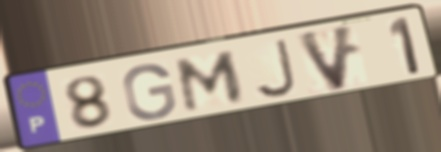1: (386, 15, 424, 77)
8: (61, 73, 115, 130)
G: (119, 62, 179, 122)
J: (251, 36, 299, 100)
M: (174, 48, 247, 115)
V: (293, 21, 358, 95)
